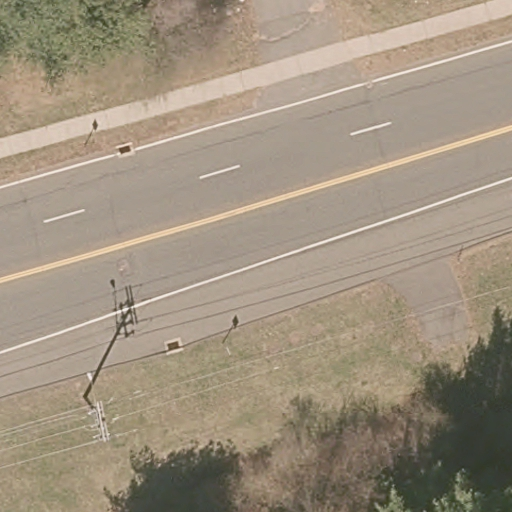DT: (82, 371, 109, 445)
